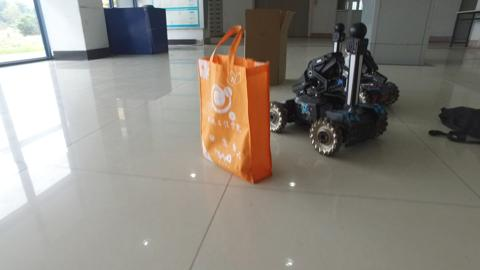bag: (199, 24, 276, 184)
chariot: (266, 23, 389, 154)
